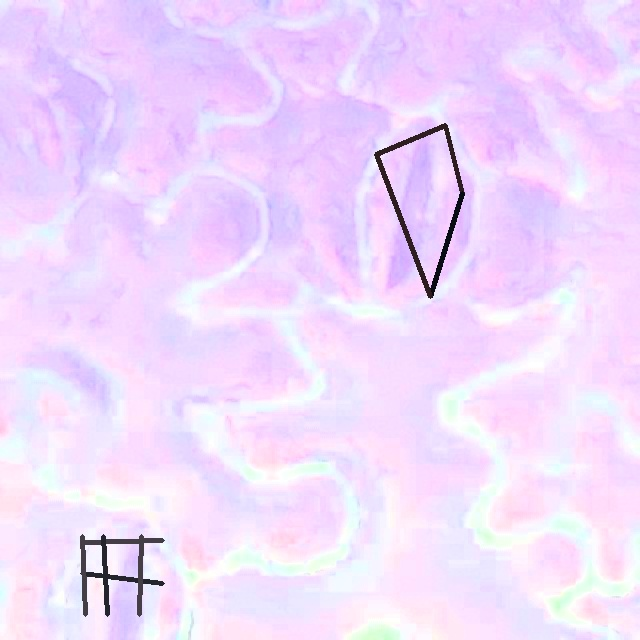open: (374, 123, 464, 298), (80, 535, 163, 616)
